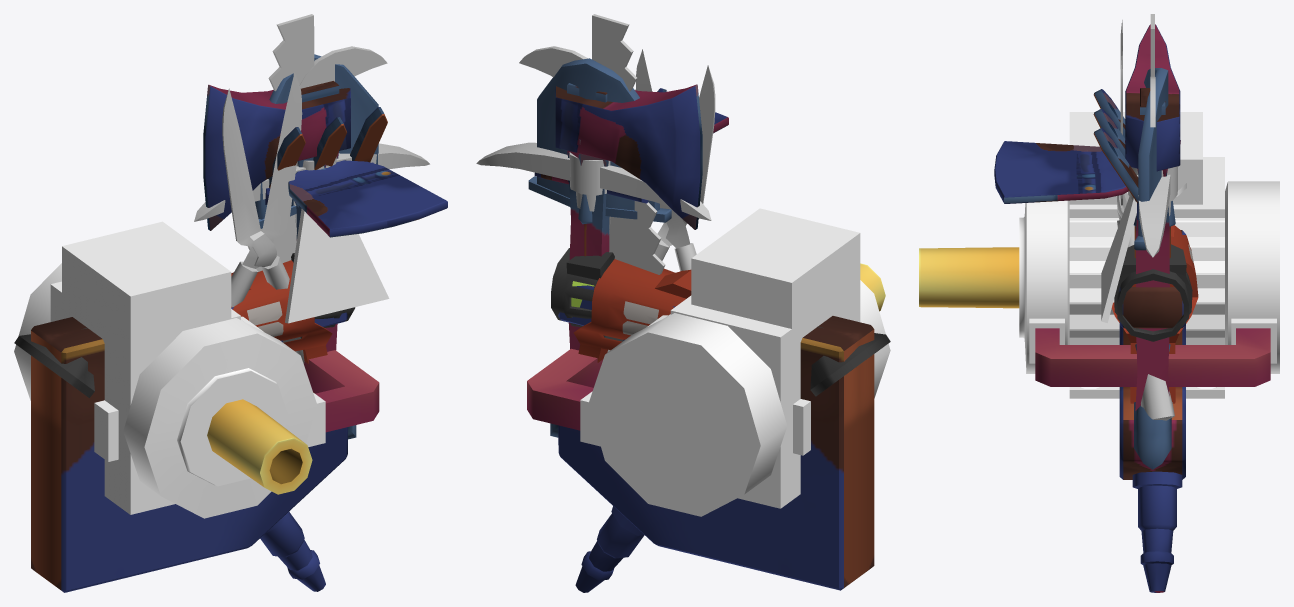
3 renders of one model, left to right at view 1: azimuth 30°, elevation 25°; view 2: azimuth 150°, elevation 25°; view 3: azimuth 270°, elevation 25°, orthographic. The views are drawn at different scales.
Visible parts, largest first — view 1: vk_t4_a2_lv11, vk_t4_a2_lv10, vk_t4_a2_lv8, vk_t4_a2_lv2, vk_t4_a2_lv7, vk_t4_a2_lv1, vk_t4_a2_lv12, vk_t4_a2_lv4, vk_t4_a2_lv9, vk_t4_a2_lv6, vk_t4_a2_lv3, vk_t4_a2_lv5; view 2: vk_t4_a2_lv11, vk_t4_a2_lv10, vk_t4_a2_lv8, vk_t4_a2_lv12, vk_t4_a2_lv6, vk_t4_a2_lv3, vk_t4_a2_lv9, vk_t4_a2_lv7, vk_t4_a2_lv5; view 3: vk_t4_a2_lv11, vk_t4_a2_lv10, vk_t4_a2_lv8, vk_t4_a2_lv2, vk_t4_a2_lv6, vk_t4_a2_lv12, vk_t4_a2_lv4, vk_t4_a2_lv3, vk_t4_a2_lv1, vk_t4_a2_lv7.
Part boxes in pixels (<box>): vk_t4_a2_lv11: <box>14,221,379,518</box>; vk_t4_a2_lv10: <box>31,307,347,592</box>; vk_t4_a2_lv8: <box>203,81,350,351</box>; vk_t4_a2_lv2: <box>288,151,447,237</box>; vk_t4_a2_lv7: <box>222,72,304,363</box>; vk_t4_a2_lv1: <box>285,208,389,323</box>; vk_t4_a2_lv12: <box>14,253,355,397</box>; vk_t4_a2_lv4: <box>265,107,387,207</box>; vk_t4_a2_lv9: <box>247,14,314,271</box>; vk_t4_a2_lv6: <box>255,54,378,439</box>; vk_t4_a2_lv3: <box>194,143,429,221</box>; vk_t4_a2_lv5: <box>294,46,387,234</box>; vk_t4_a2_lv11: <box>527,208,890,516</box>; vk_t4_a2_lv10: <box>558,285,874,592</box>; vk_t4_a2_lv8: <box>555,83,702,350</box>; vk_t4_a2_lv12: <box>551,248,890,396</box>; vk_t4_a2_lv6: <box>528,58,671,437</box>; vk_t4_a2_lv3: <box>476,142,711,220</box>; vk_t4_a2_lv9: <box>592,14,665,274</box>; vk_t4_a2_lv7: <box>607,49,715,352</box>; vk_t4_a2_lv5: <box>519,46,610,233</box>; vk_t4_a2_lv11: <box>919,112,1279,398</box>; vk_t4_a2_lv10: <box>1119,230,1185,592</box>; vk_t4_a2_lv8: <box>1125,24,1180,410</box>; vk_t4_a2_lv2: <box>994,140,1180,203</box>; vk_t4_a2_lv6: <box>1133,68,1175,469</box>; vk_t4_a2_lv12: <box>1112,225,1198,403</box>; vk_t4_a2_lv4: <box>1093,89,1138,219</box>; vk_t4_a2_lv3: <box>1128,166,1177,257</box>; vk_t4_a2_lv1: <box>1101,196,1136,322</box>; vk_t4_a2_lv7: <box>1117,20,1174,420</box>.
Bounding box in the file's own units: 1.79 × 2.5 × 1.45.
